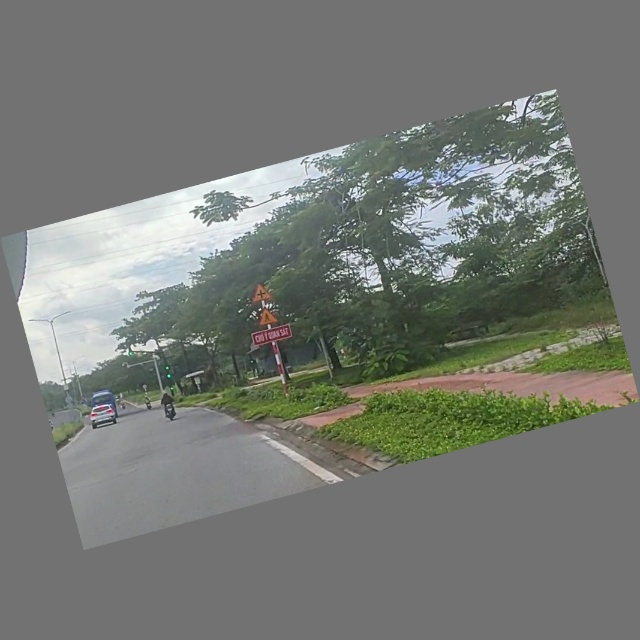W.205a: (249, 281, 275, 305)
W.224: (253, 304, 283, 329)
